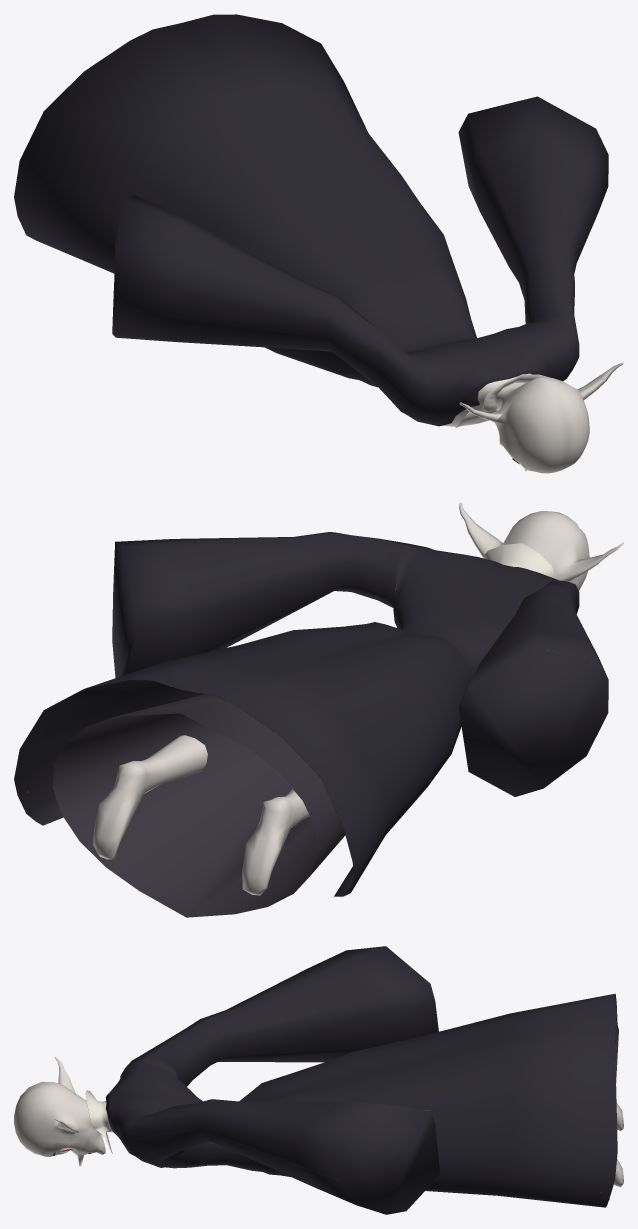
File: elfoMalvado (Original).fbx
The picture shows the model from 3 angles, top to bottom: view 1: azimuth 30°, elevation 25°; view 2: azimuth 150°, elevation 25°; view 3: azimuth 270°, elevation 25°; orthographic projection. The views are drawn at different scales.
Visible parts, largest first — view 1: Circle.001; view 2: Circle.001; view 3: Circle.001.
Part boxes in pixels (x1,y1,x2,y2): Circle.001: (14,14,623,473); Circle.001: (14,502,623,917); Circle.001: (14,946,623,1214).
Bounding box in the file's own units: 1.47 × 0.6581 × 2.01.
1 material, 1 textured.
